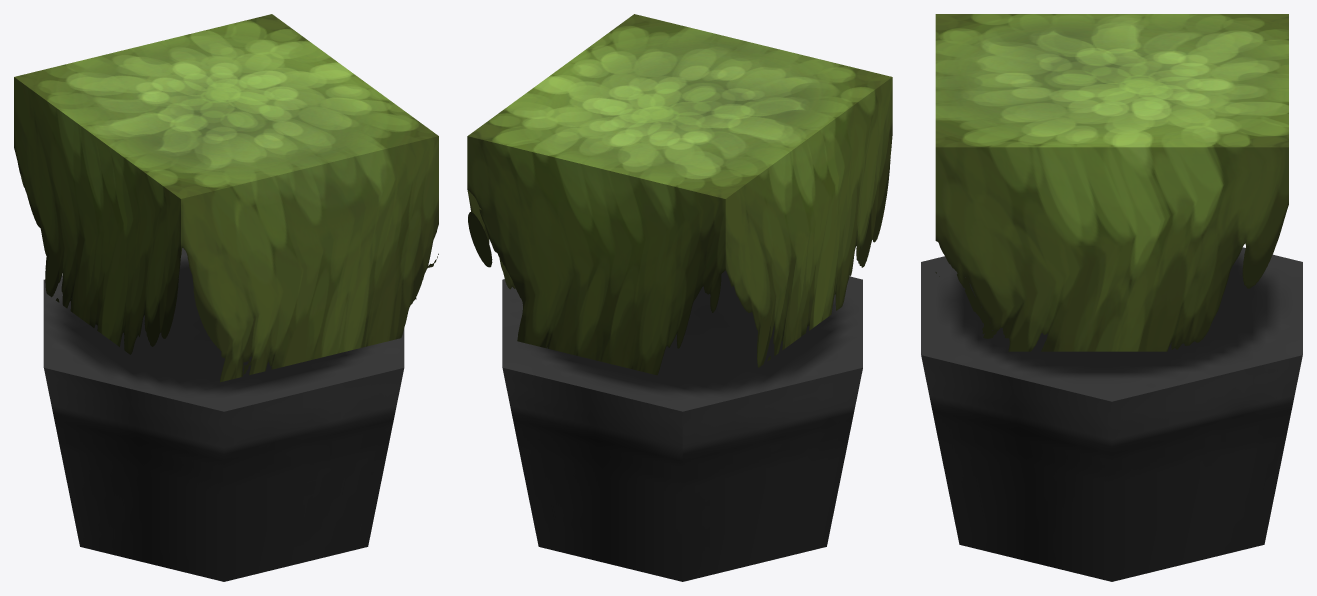
File: plant-1.FBX
The picture shows the model from 3 angles, left to right: view 1: azimuth 30°, elevation 25°; view 2: azimuth 150°, elevation 25°; view 3: azimuth 270°, elevation 25°; orthographic projection. The views are drawn at different scales.
Visible parts, largest first — view 1: plant-1; view 2: plant-1; view 3: plant-1.
Boxes of the visible parts, x1,y1,x2,y2 form: plant-1: (14, 14, 438, 581); plant-1: (467, 14, 892, 581); plant-1: (921, 14, 1302, 581).
Size of the model in its own units: 240 by 257 by 208.
